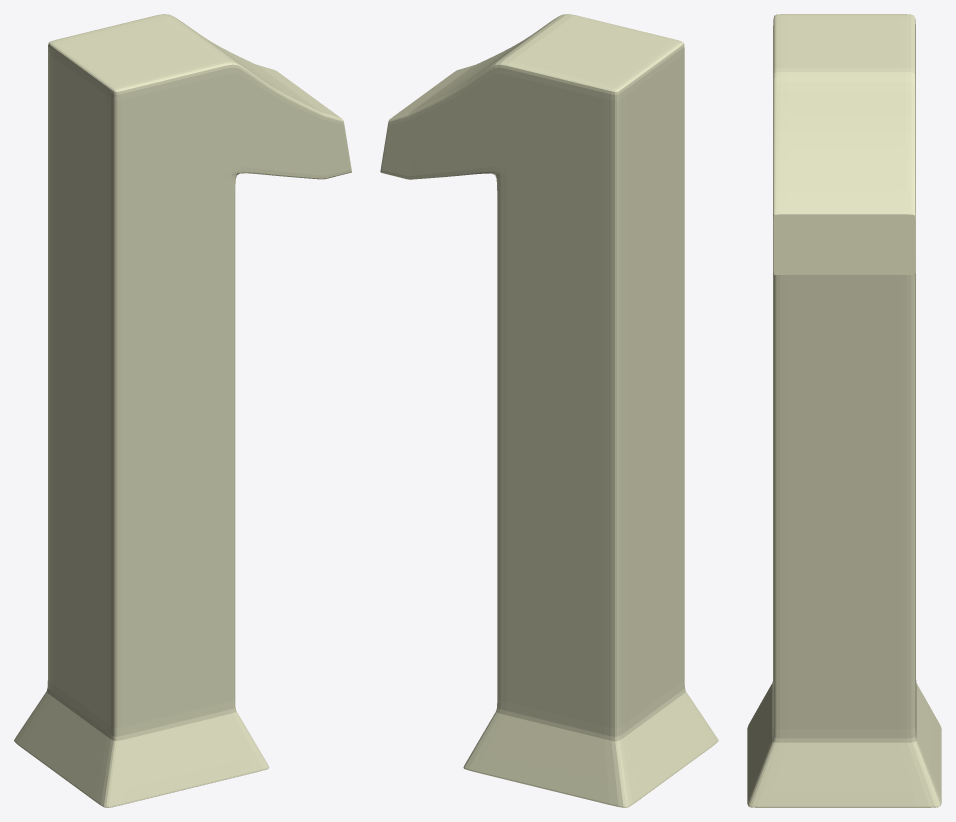
The model's file is onefbx.fbx.
3 views of the same model, side by side, from view 1: azimuth 30°, elevation 25°; view 2: azimuth 150°, elevation 25°; view 3: azimuth 270°, elevation 25° (orthographic). The views are drawn at different scales.
Parts seen in each view (by area): view 1: node_id4; view 2: node_id4; view 3: node_id4.
Boxes of the visible parts, x1,y1,x2,y2 form: node_id4: (14,14,351,807); node_id4: (380,14,718,807); node_id4: (747,14,941,807).
Bounding box in the file's own units: 0.1978 × 0.512 × 0.1248.
1 material, 1 textured.
